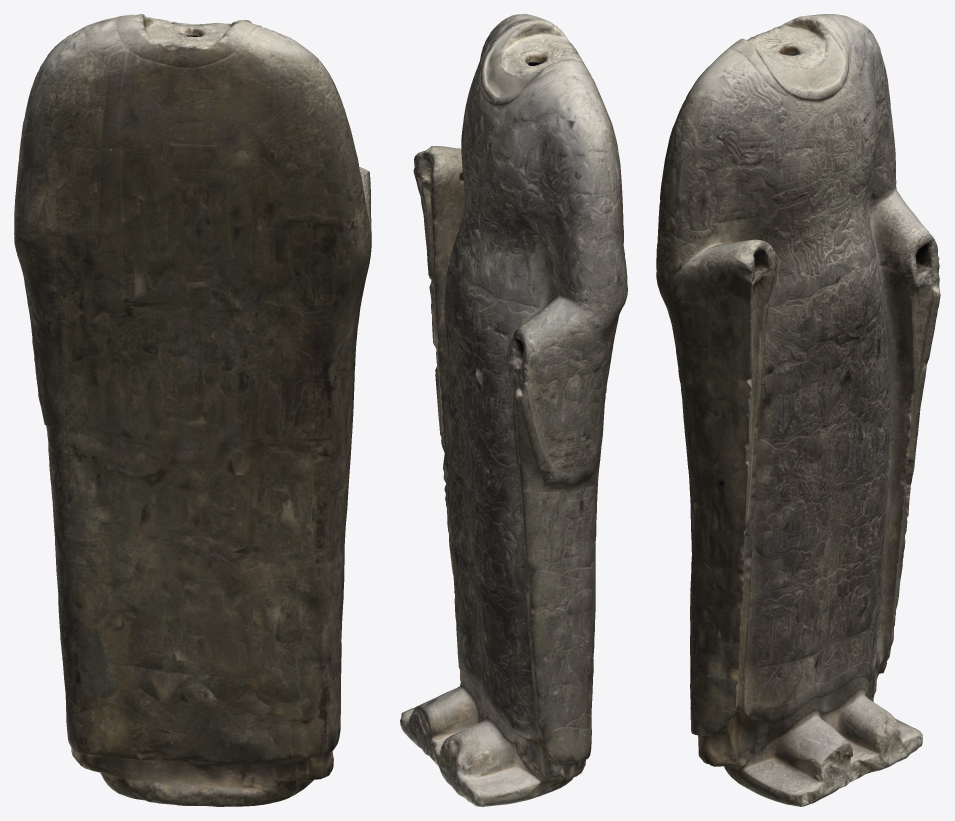
File: bouddha-cosmique-leger.glb
The picture shows the model from 3 angles, left to right: view 1: azimuth 30°, elevation 25°; view 2: azimuth 150°, elevation 25°; view 3: azimuth 270°, elevation 25°; orthographic projection. The views are drawn at different scales.
Size of the model in its own units: 590 by 1514 by 544.
Materials: 1 (1 with a texture image).
